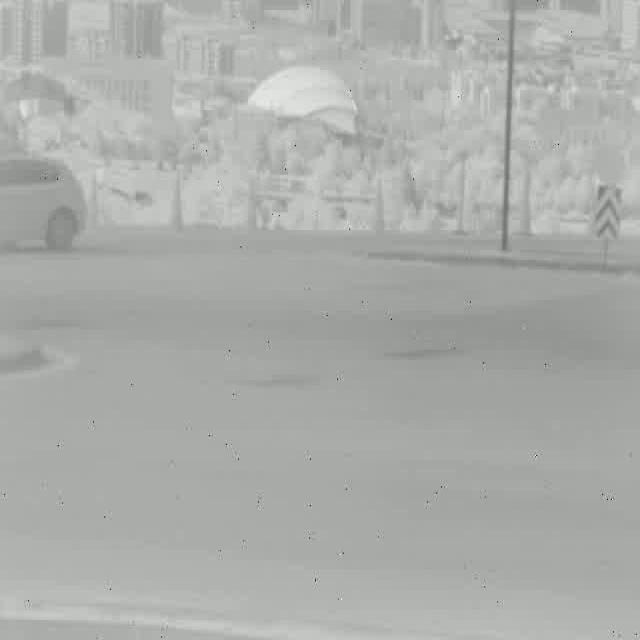Car: (0, 154, 87, 246)
